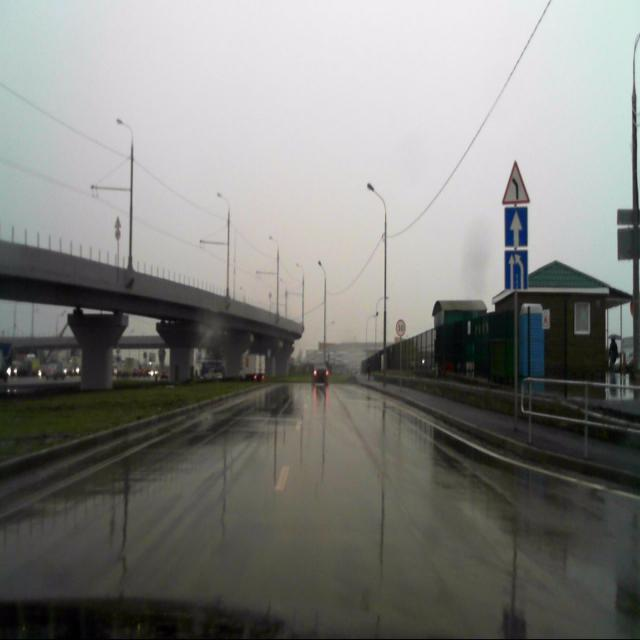object: (513, 290, 520, 430), (400, 336, 402, 392)
road sign: (502, 159, 529, 204), (504, 252, 528, 290), (505, 208, 528, 246)
